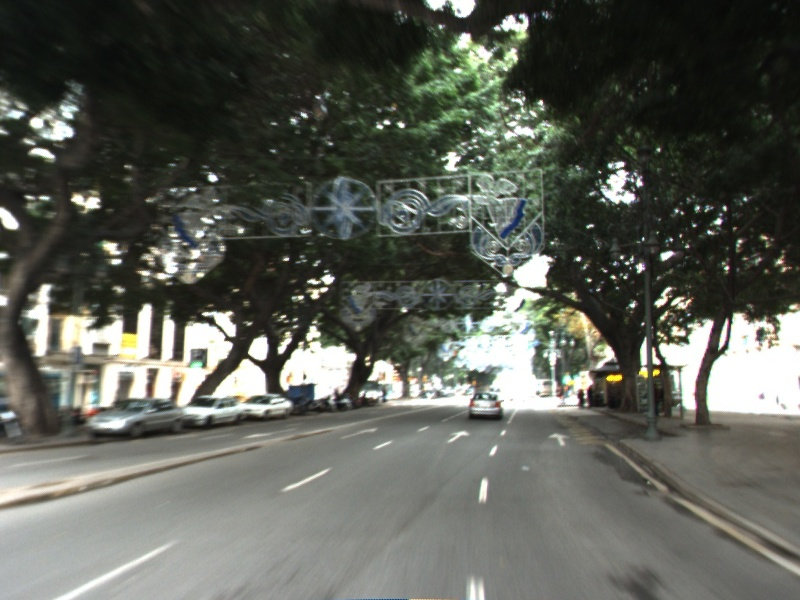STRAIGHT: (336, 425, 381, 442), (546, 430, 573, 448), (445, 428, 473, 444)
